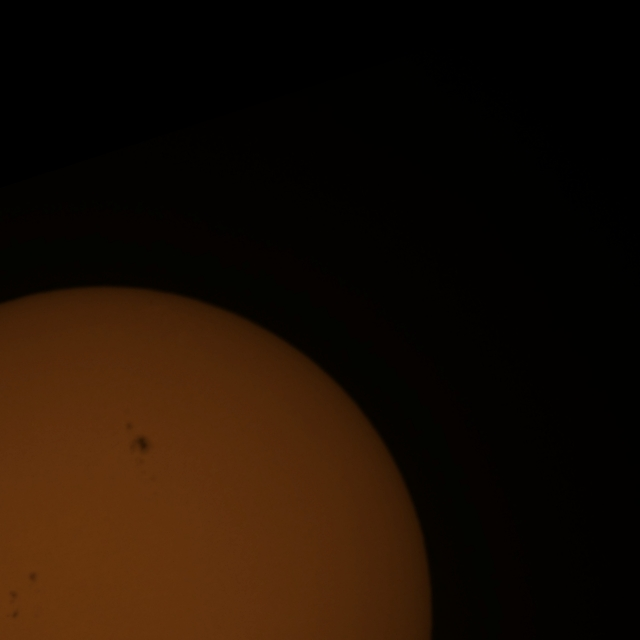sunspot: (124, 420, 149, 456), (4, 590, 21, 620), (27, 570, 39, 586), (123, 421, 135, 432)
